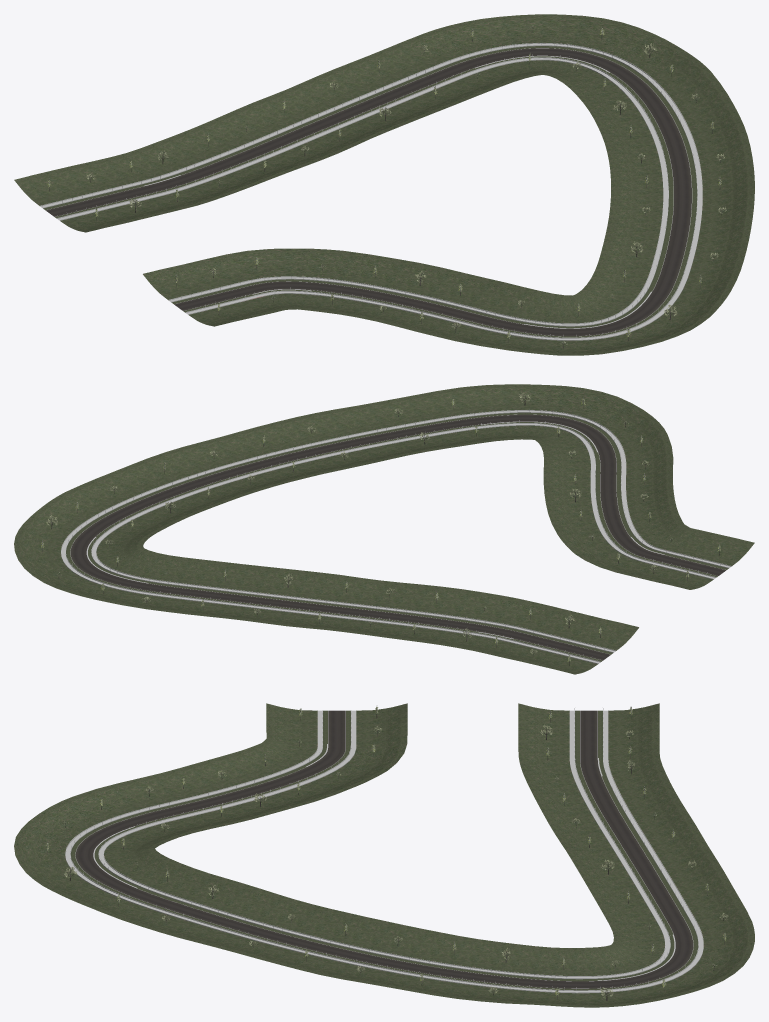
The picture shows the model from 3 angles, top to bottom: view 1: azimuth 30°, elevation 25°; view 2: azimuth 150°, elevation 25°; view 3: azimuth 270°, elevation 25°; orthographic projection. The views are drawn at different scales.
Visible parts, largest first — view 1: Grass, Road, Track, Trees; view 2: Grass, Road, Track, Trees; view 3: Grass, Road, Track, Trees.
Boxes of the visible parts, bbox=[...] form: Grass: bbox=[14, 14, 754, 355]; Road: bbox=[46, 48, 691, 336]; Track: bbox=[40, 42, 702, 340]; Trees: bbox=[47, 25, 726, 348]; Grass: bbox=[14, 384, 754, 674]; Road: bbox=[70, 414, 726, 660]; Track: bbox=[61, 409, 731, 663]; Trees: bbox=[41, 393, 720, 665]; Grass: bbox=[14, 703, 754, 1007]; Road: bbox=[75, 710, 693, 988]; Track: bbox=[65, 708, 703, 993]; Trees: bbox=[45, 706, 728, 1000].
Bounding box in the file's own units: 71427 × 1835 × 73527.
